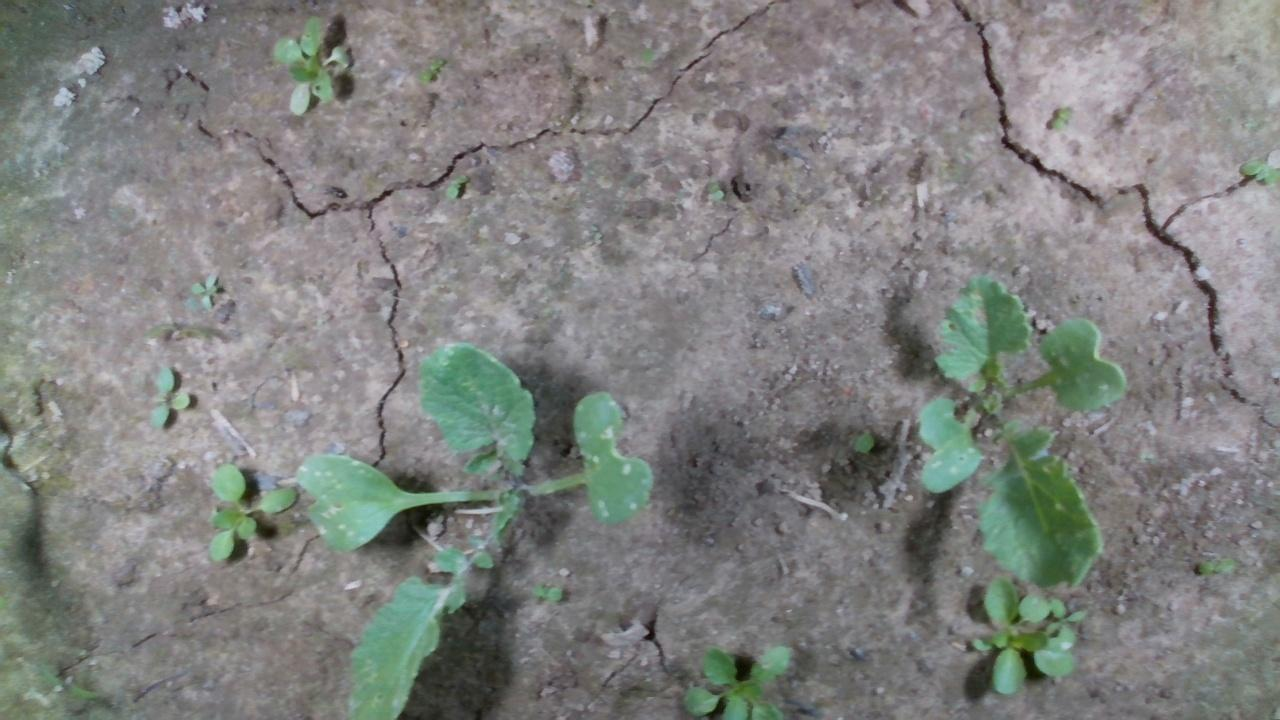weed: (147, 366, 191, 429), (188, 269, 221, 311), (1238, 157, 1278, 185), (441, 169, 469, 200), (527, 581, 563, 601), (1047, 105, 1070, 131)
